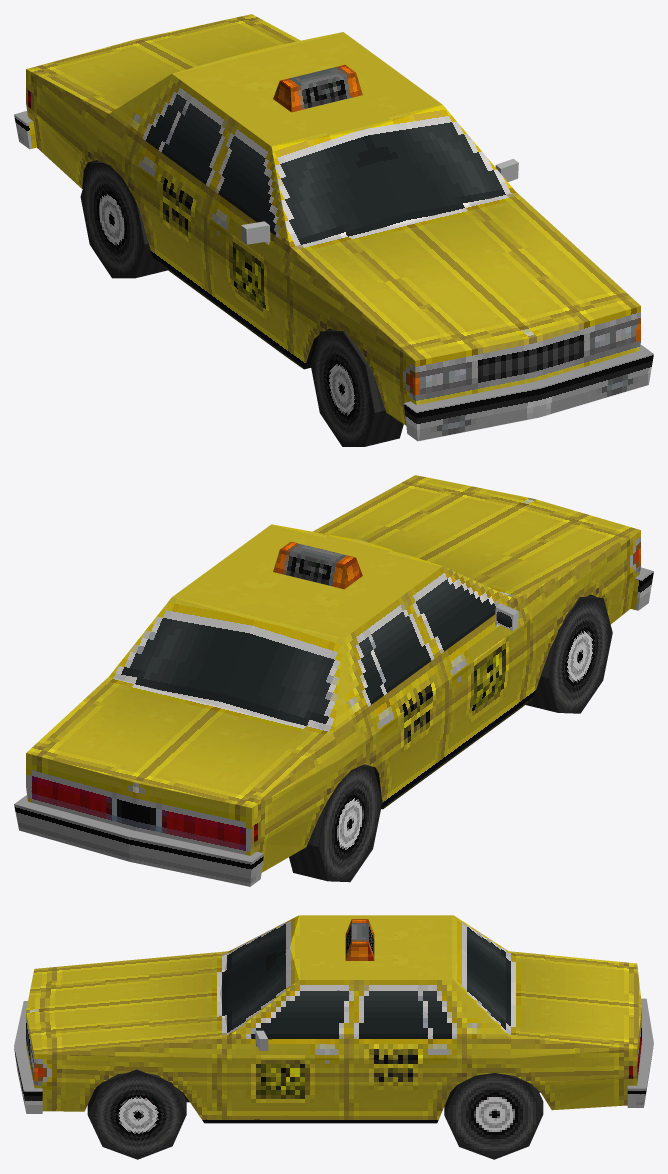
Rendered from taxi.glb.
3 renders of one model, top to bottom at view 1: azimuth 30°, elevation 25°; view 2: azimuth 150°, elevation 25°; view 3: azimuth 270°, elevation 25°, orthographic. The views are drawn at different scales.
Visible parts, largest first — view 1: body, wheel_fr, wheel_rr; view 2: body, wheel_rr, wheel_fr; view 3: body, wheel_fl, wheel_rl.
Boxes of the visible parts, x1,y1,x2,y2 form: body: (14,14,653,441); wheel_fr: (310,329,403,446); wheel_rr: (80,161,167,278); body: (14,475,653,886); wheel_rr: (289,764,382,882); wheel_fr: (526,595,612,713); body: (14,915,653,1123); wheel_fl: (87,1069,186,1159); wheel_rl: (444,1073,543,1159).
Size of what is drawn, in the model's own units: 1.28 by 1.06 by 3.36.
Materials: 2 (2 with a texture image).
